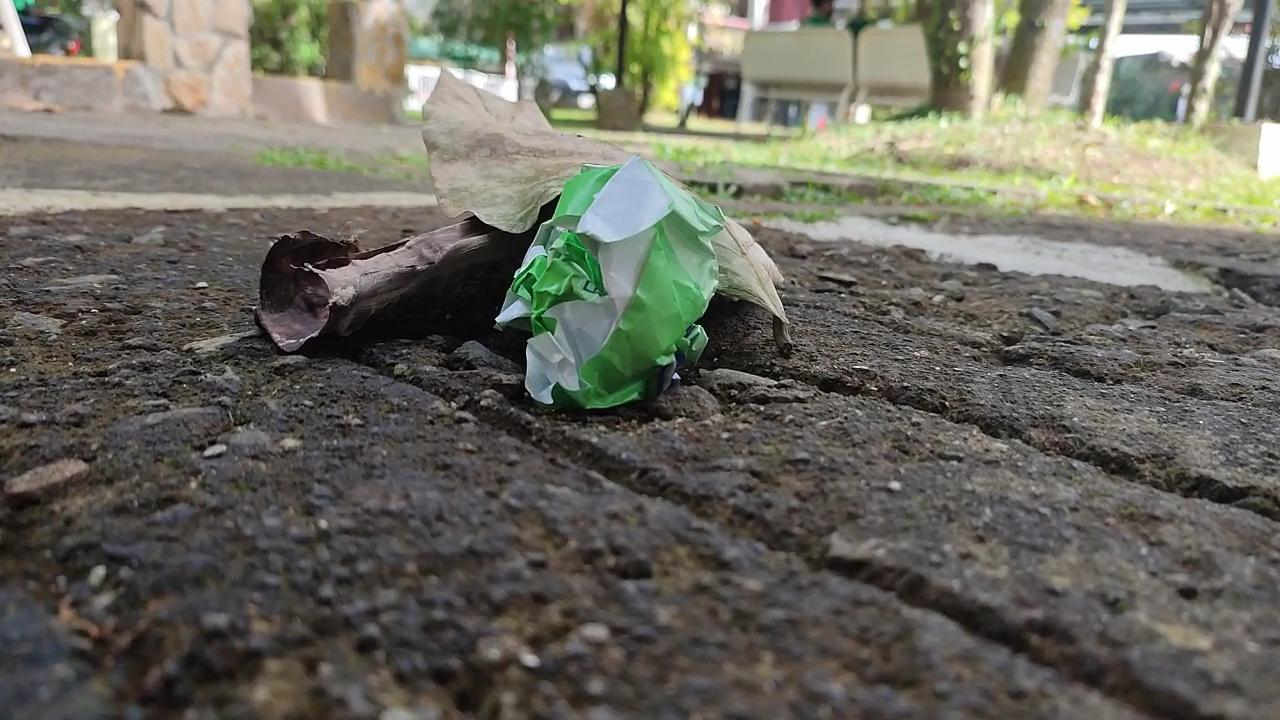Paper: (486, 146, 718, 425)
